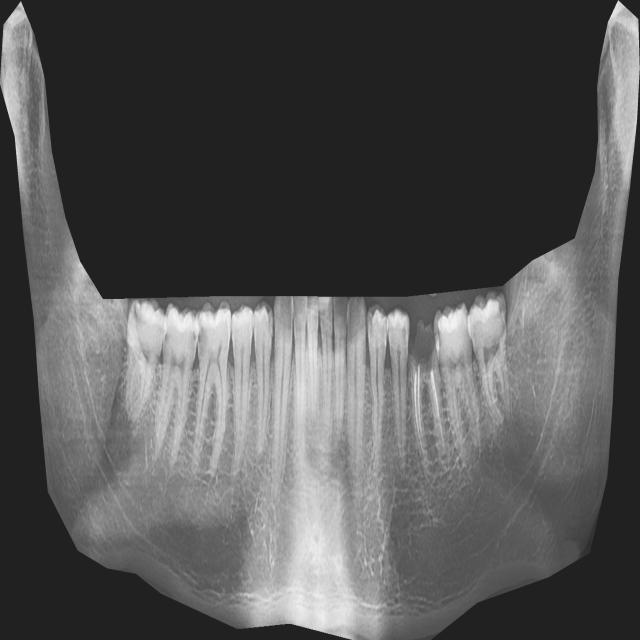mandibula: (0, 0, 640, 640)
